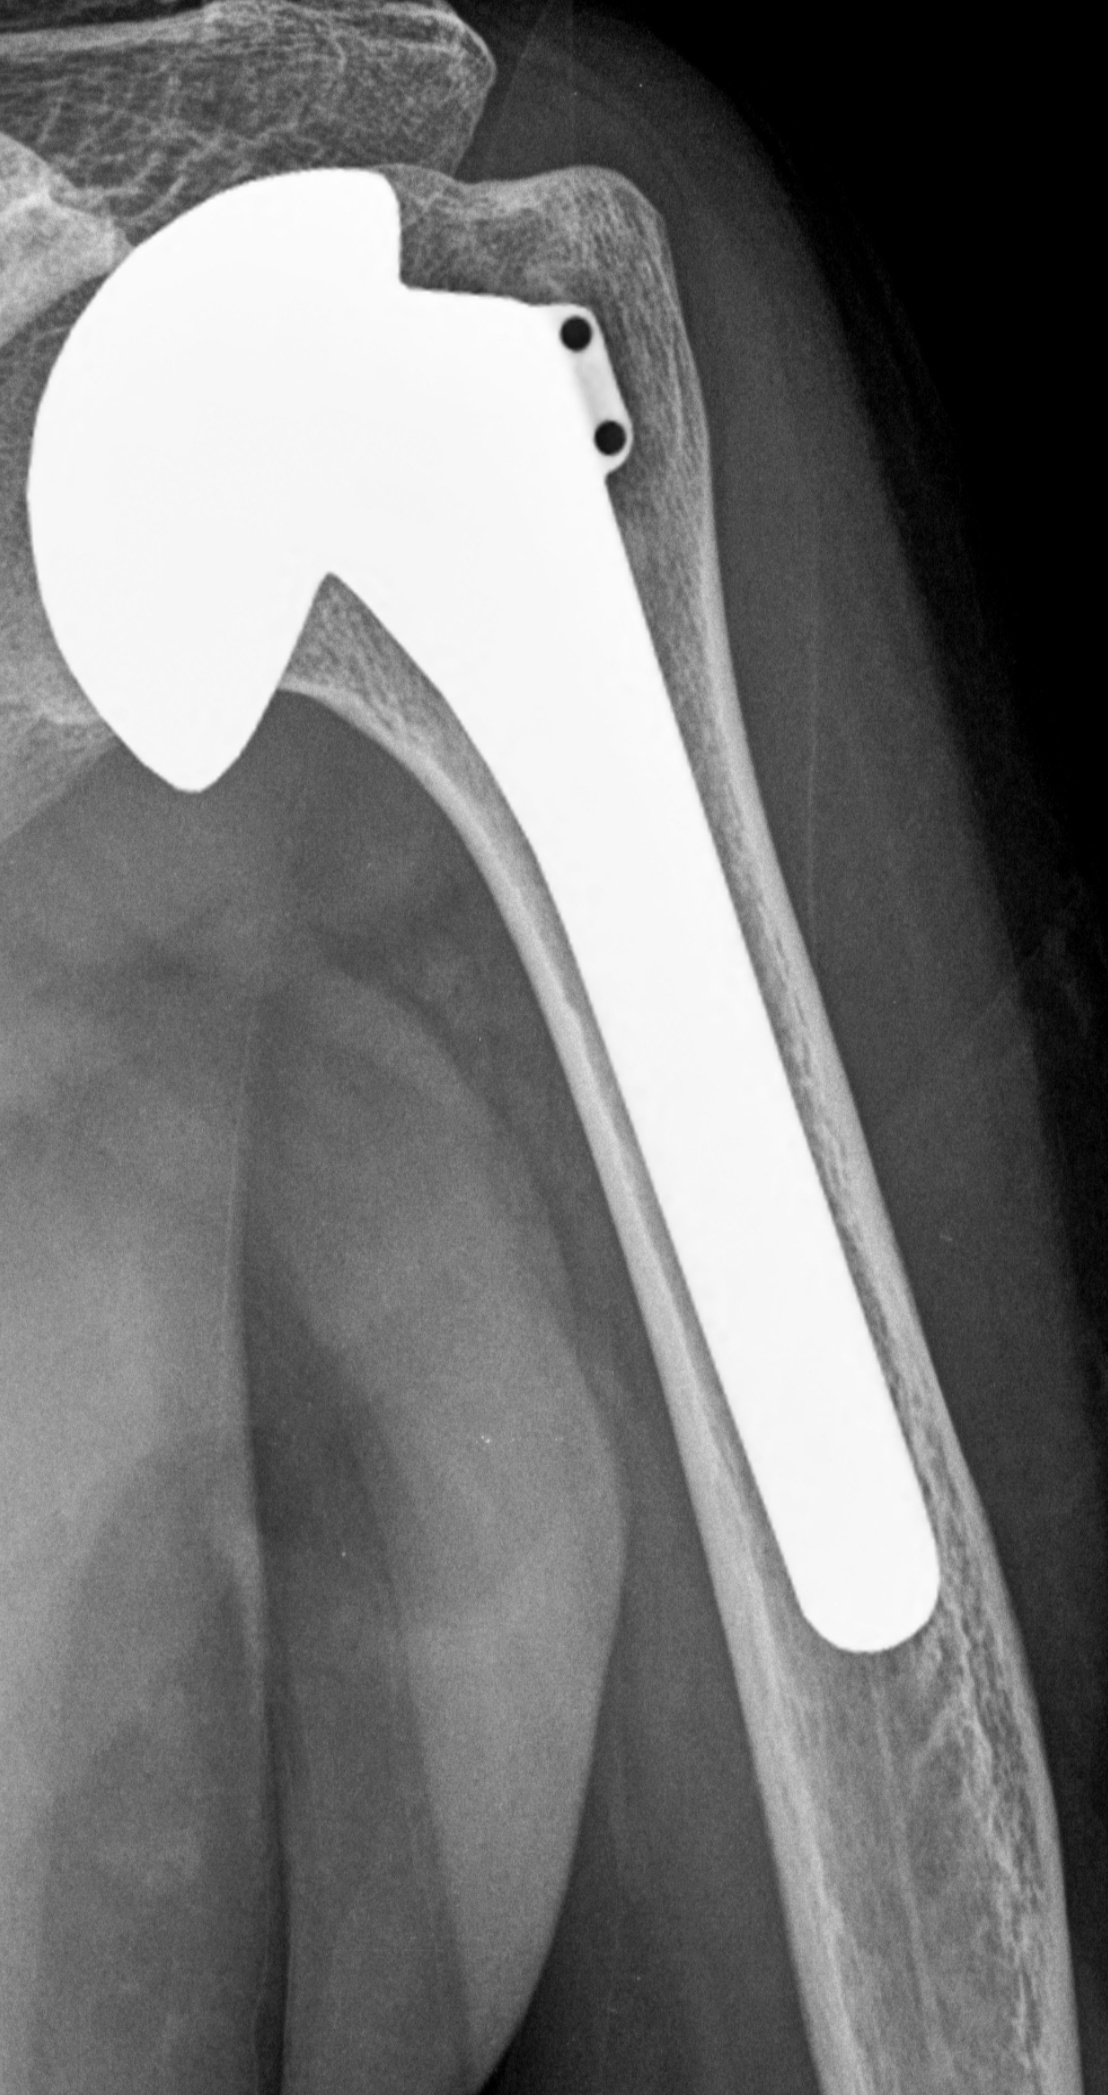Shoulder - AequalisPressfit - Tornier: (11, 163, 654, 809)
